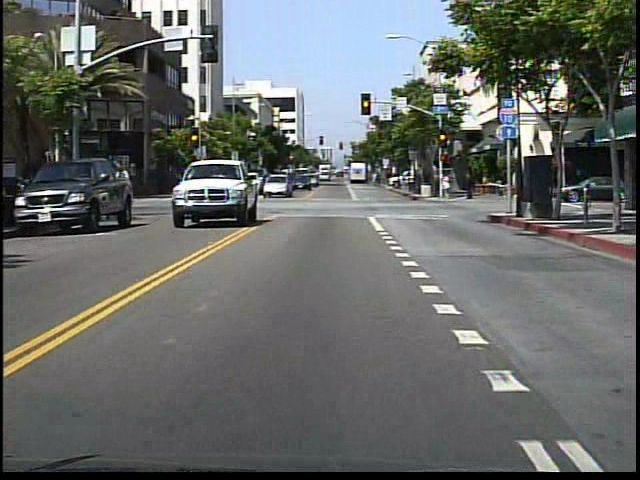person: (118, 163, 151, 191), (462, 170, 476, 203), (184, 172, 196, 198), (442, 172, 453, 199)
